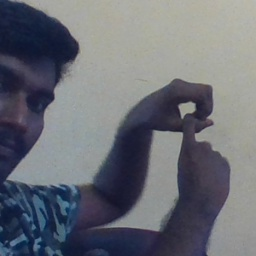Q: (135, 75, 236, 187)
